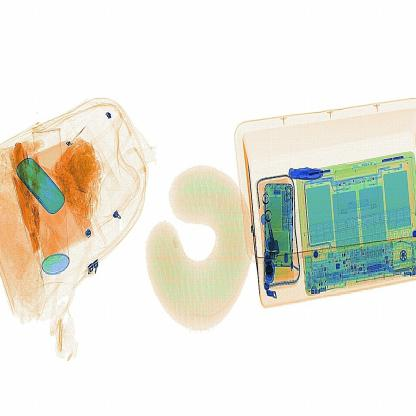knife: (284, 164, 326, 187)
